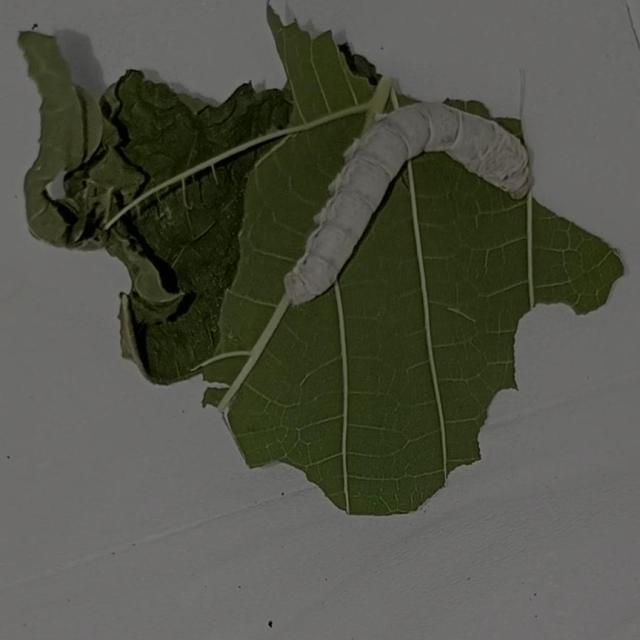Healthy: (275, 91, 548, 318)
